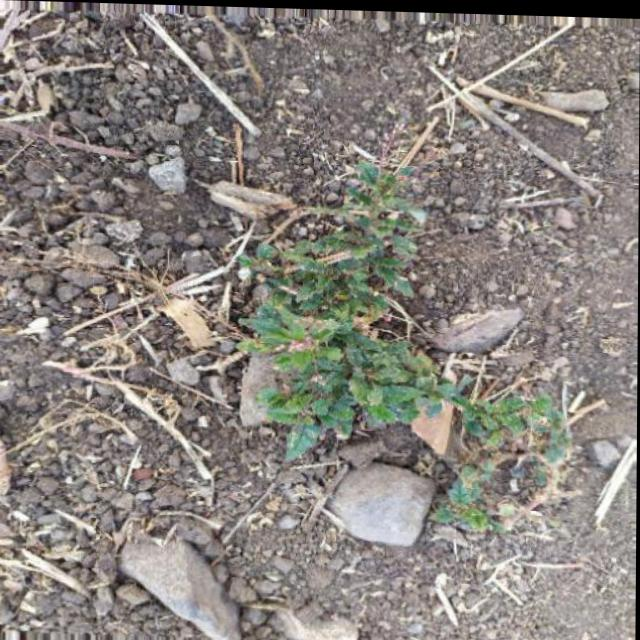weed: (265, 164, 563, 482)
